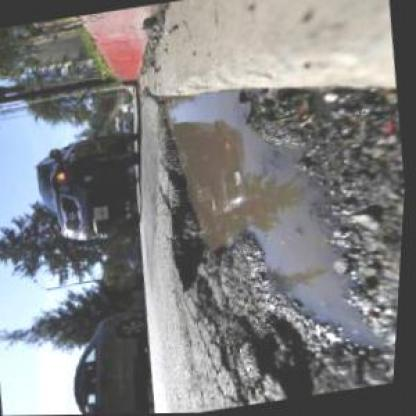pothole: (136, 56, 412, 414)
